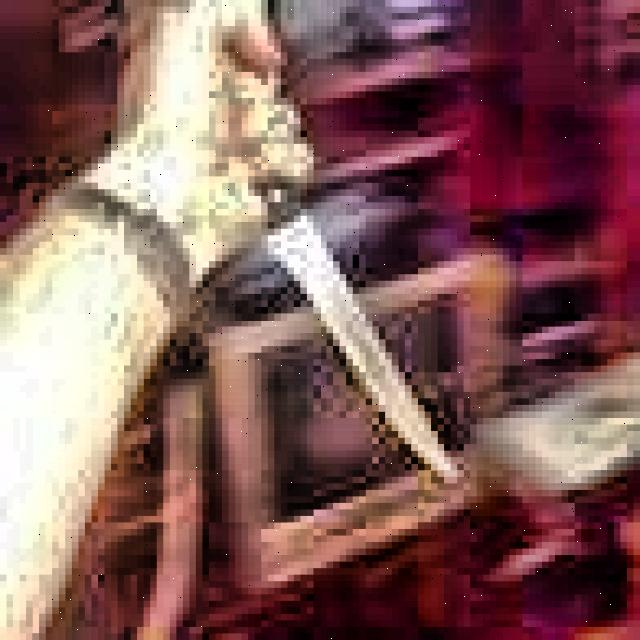knife: (257, 181, 463, 487)
